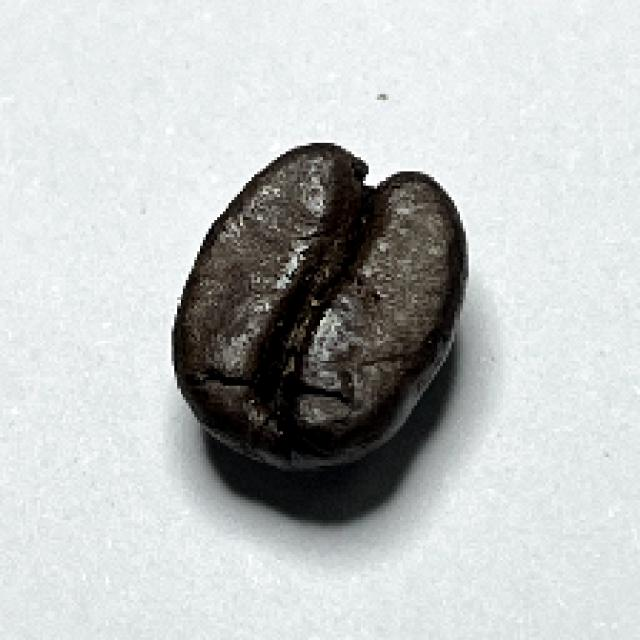bean: (169, 138, 472, 469)
